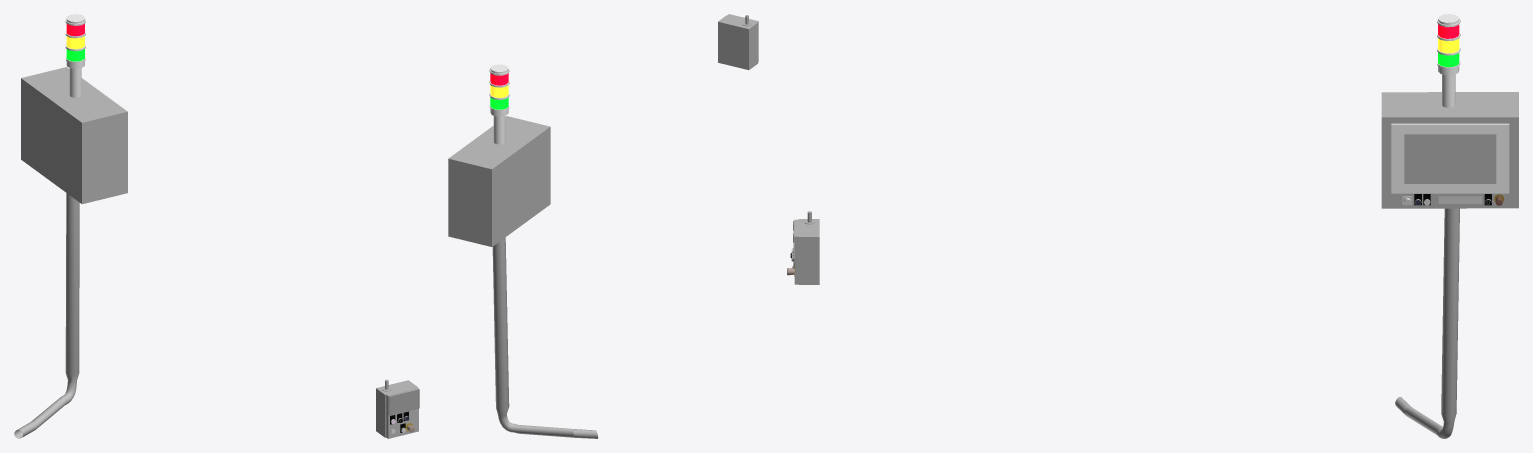
Rendered from hmi (1).fbx.
3 views of the same model, side by side, from view 1: azimuth 30°, elevation 25°; view 2: azimuth 150°, elevation 25°; view 3: azimuth 270°, elevation 25° (orthographic). The views are drawn at different scales.
Parts seen in each view (by area): view 1: pCube125, polySurface1385, polySurface1386, polySurface1489, polySurface1495, pCube126; view 2: pCube125, polySurface1385, polySurface1489, polySurface1386; view 3: pCube125, polySurface1385, polySurface1400, polySurface1386, polySurface1489.
Boxes of the visible parts, x1,y1,x2,y2 form: pCube125: [21, 67, 127, 204]; polySurface1385: [14, 193, 79, 438]; polySurface1386: [65, 14, 85, 97]; polySurface1489: [376, 380, 417, 437]; polySurface1495: [386, 387, 418, 438]; pCube126: [390, 389, 419, 415]; pCube125: [448, 116, 550, 246]; polySurface1385: [492, 237, 598, 438]; polySurface1489: [718, 15, 757, 69]; polySurface1386: [489, 64, 509, 144]; pCube125: [1381, 92, 1518, 208]; polySurface1385: [1395, 208, 1459, 438]; polySurface1400: [1391, 123, 1509, 193]; polySurface1386: [1437, 14, 1460, 107]; polySurface1489: [798, 219, 819, 284].
Size of the model in its own units: 76.65 by 210 by 322.
